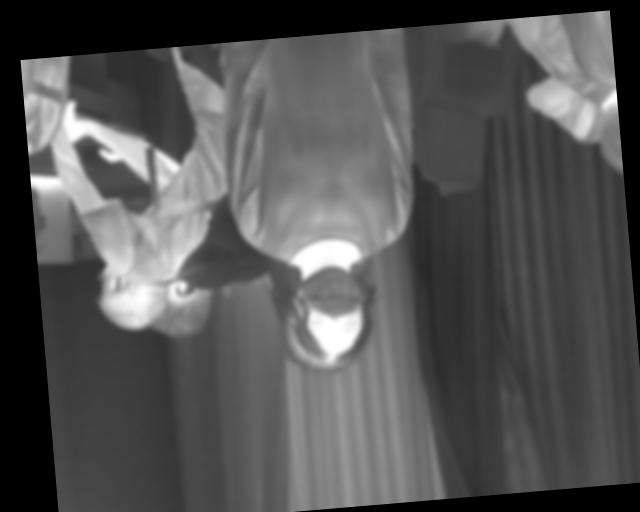face: (279, 262, 374, 376)
